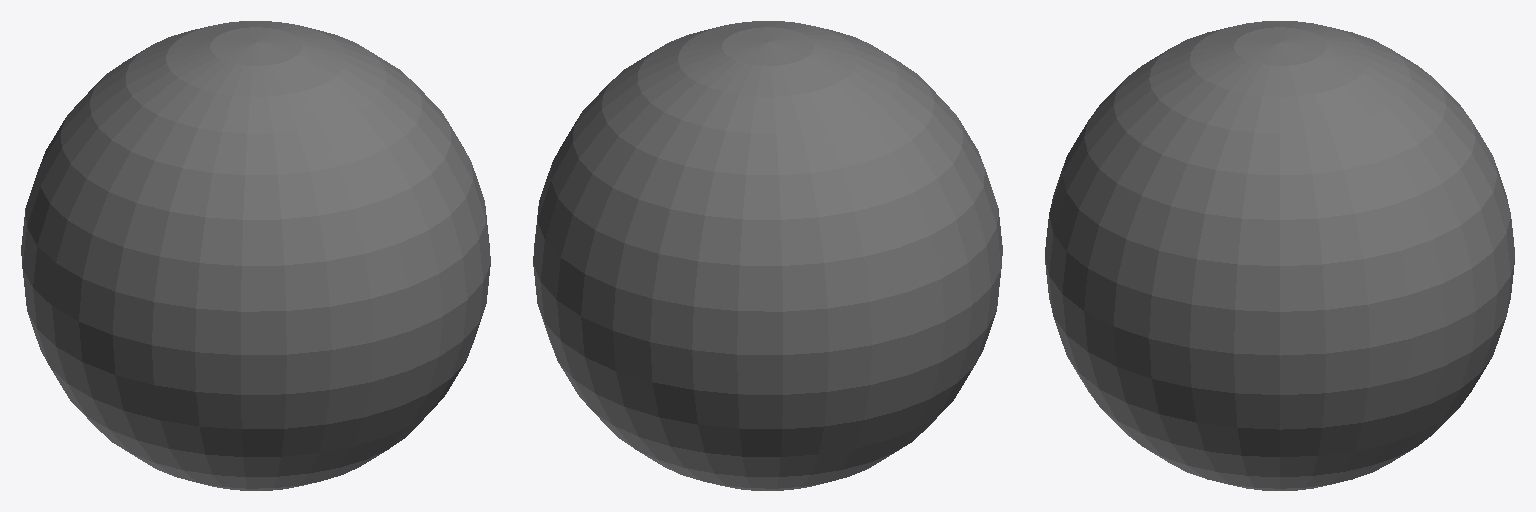
Rendered from SpaceSky.obj.
3 renders of one model, left to right at view 1: azimuth 30°, elevation 25°; view 2: azimuth 150°, elevation 25°; view 3: azimuth 270°, elevation 25°, orthographic.
Visible parts, largest first — view 1: Sphere001; view 2: Sphere001; view 3: Sphere001.
Boxes of the visible parts, <box> form: Sphere001: <box>21,21,490,490</box>; Sphere001: <box>533,21,1002,490</box>; Sphere001: <box>1045,21,1514,490</box>.
Bounding box in the file's own units: 135 × 135 × 135.